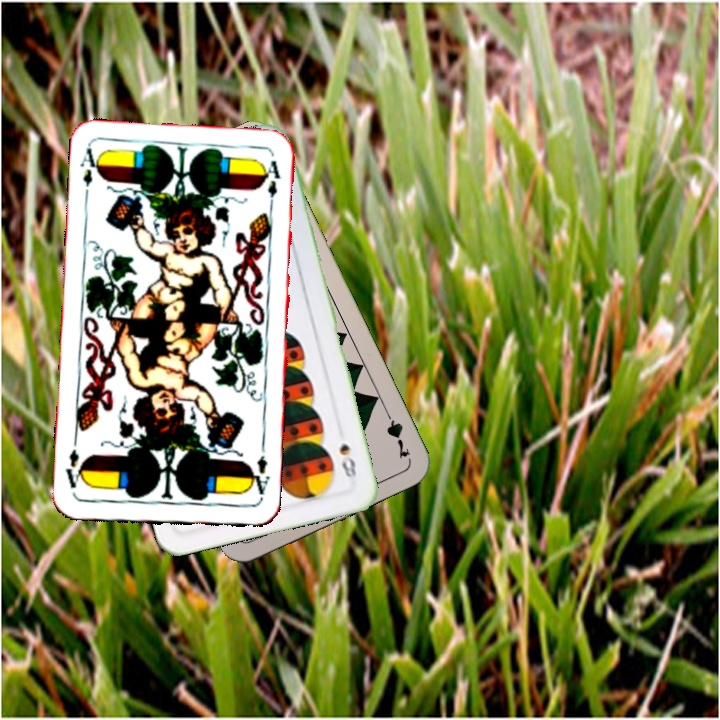EA: (76, 144, 103, 203), (245, 451, 273, 502)
G7: (380, 404, 413, 462)
S8: (335, 440, 359, 482)
